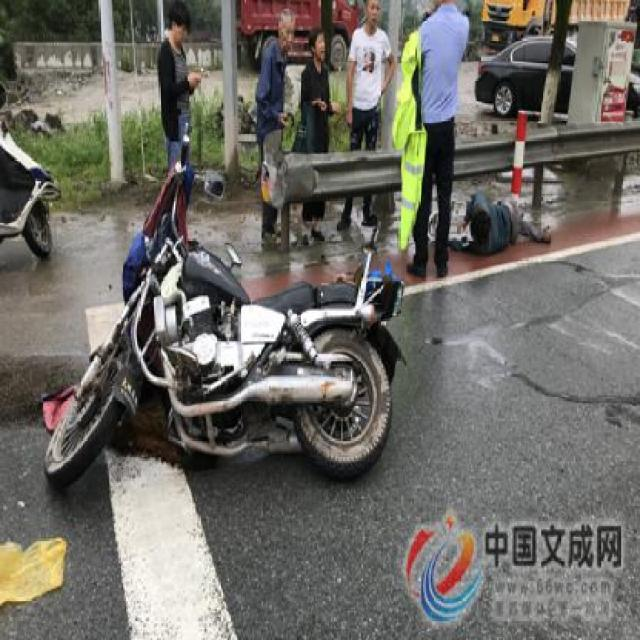fall: (446, 176, 554, 267)
